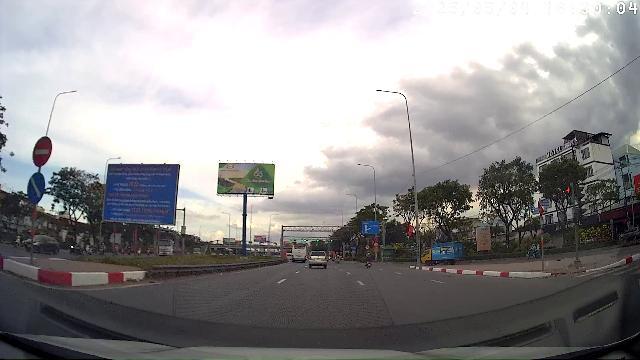102-cam-di-nguoc-chieu: (32, 135, 53, 168)
302a-huong-phai-di-vong-chuong-ngai-vat-1: (26, 170, 46, 205)
